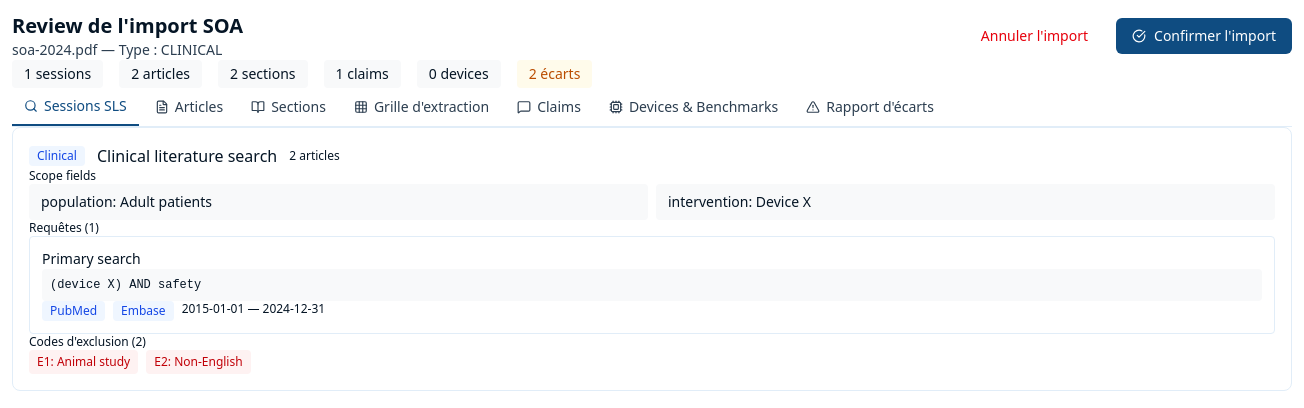
it: SoaImportReview › switches to sections tab on click
Click the button with test id "tab-sections" at (288, 107), box [239,88,338,126]
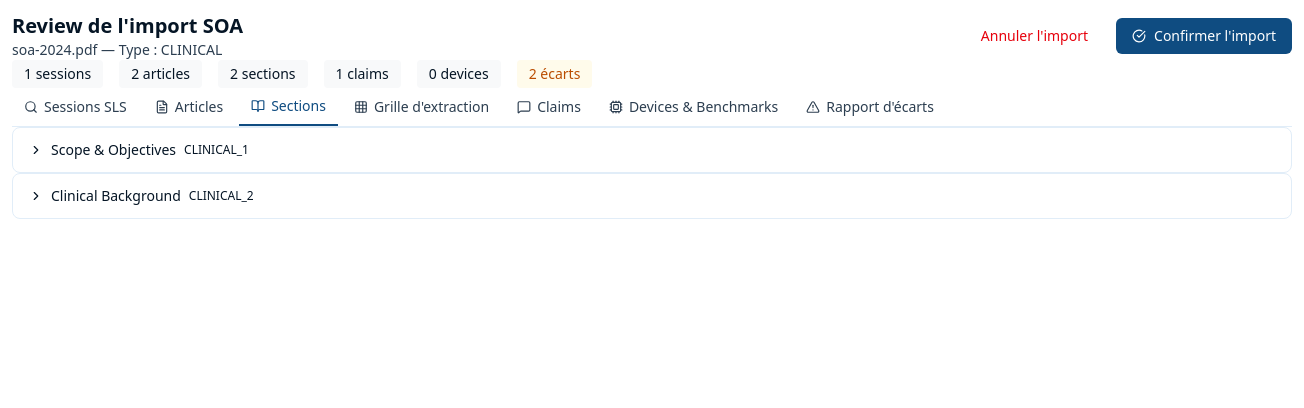
Now the element with test id "sections-tab" is shown, box [12,127,1292,219]
Now the element with test id "sessions-tab" is gone
